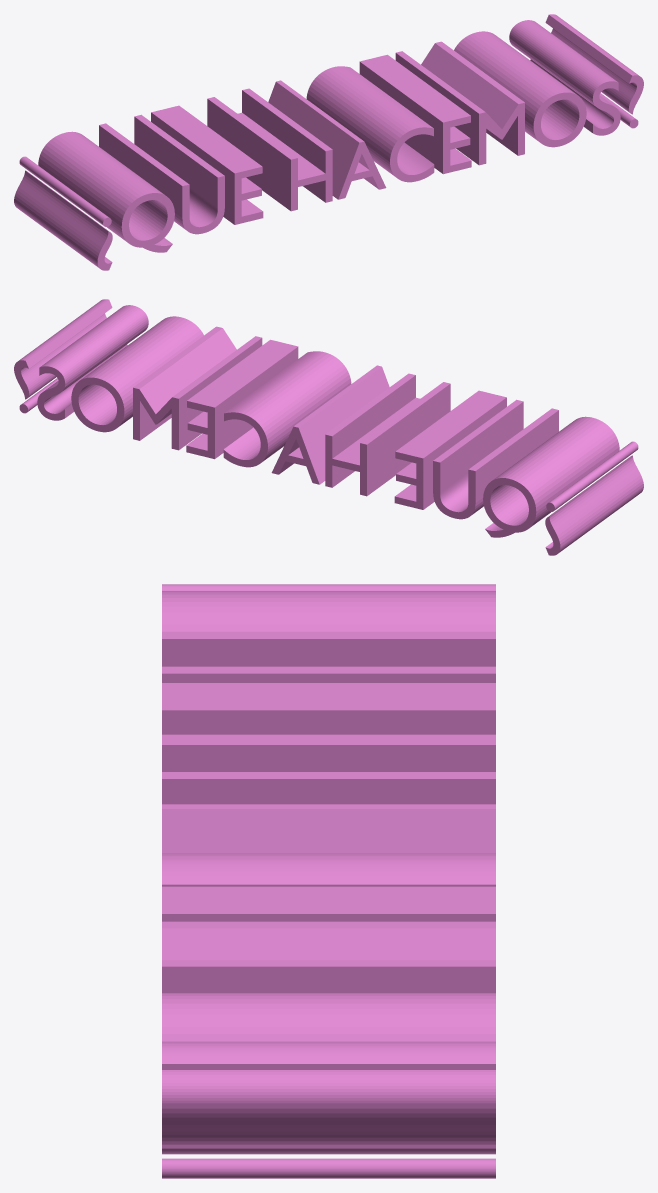
3 renders of one model, top to bottom at view 1: azimuth 30°, elevation 25°; view 2: azimuth 150°, elevation 25°; view 3: azimuth 270°, elevation 25°, orthographic. The views are drawn at different scales.
Visible parts, largest first — view 1: Texto; view 2: Texto; view 3: Texto.
Boxes of the visible parts, left/top/right/bottom form: Texto: left=14, top=14, right=643, bottom=270; Texto: left=14, top=299, right=643, bottom=555; Texto: left=162, top=584, right=495, bottom=1178.
Size of the model in its own units: 7.56 by 0.884 by 2.
